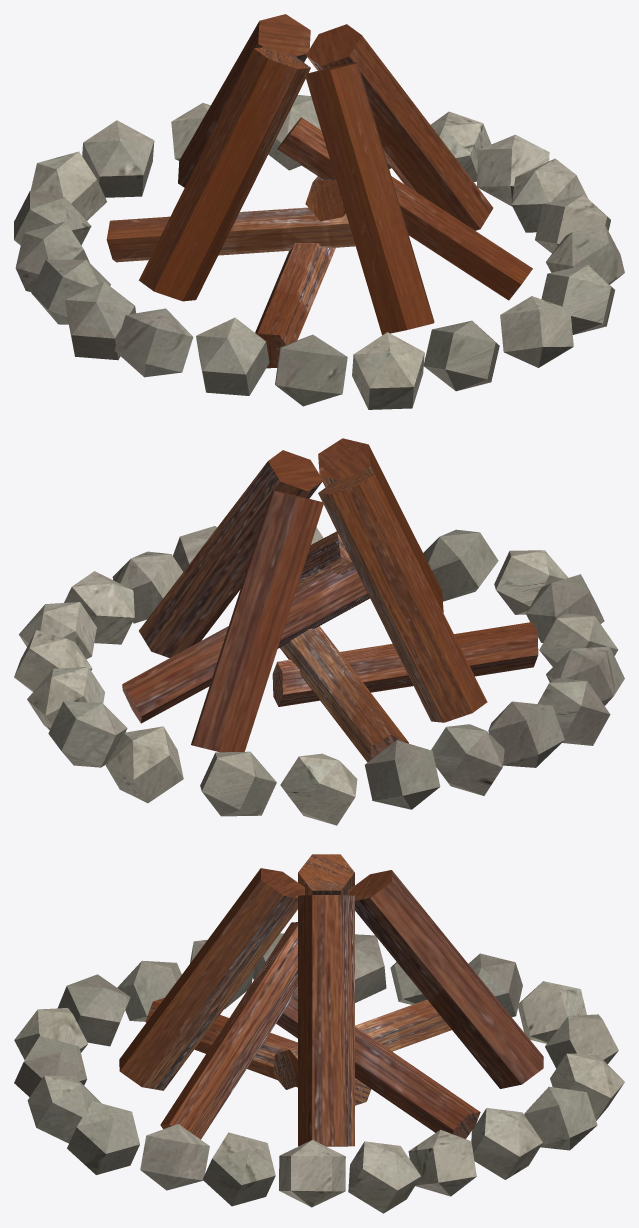
Rendered from campfire.fbx.
3 renders of one model, top to bottom at view 1: azimuth 30°, elevation 25°; view 2: azimuth 150°, elevation 25°; view 3: azimuth 270°, elevation 25°, orthographic. The views are drawn at different scales.
Visible parts, largest first — view 1: Cylinder, Icosphere; view 2: Cylinder, Icosphere; view 3: Cylinder, Icosphere.
Boxes of the visible parts, <box> form: Cylinder: <box>106,14,532,368</box>; Icosphere: <box>14,95,624,409</box>; Cylinder: <box>122,438,538,762</box>; Icosphere: <box>14,526,624,825</box>; Cylinder: <box>119,854,543,1146</box>; Icosphere: <box>14,933,624,1213</box>.
Size of the model in its own units: 2027 by 861 by 2152.
